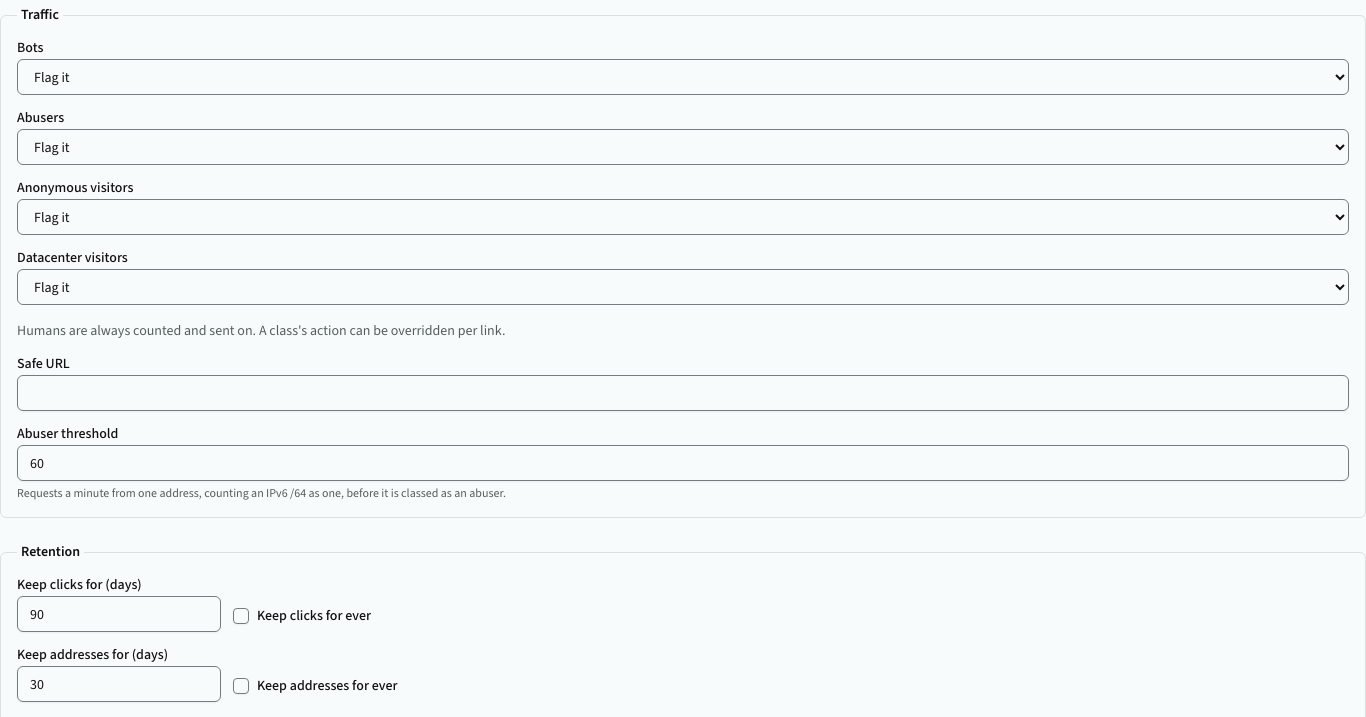
Test case: the settings screen › asks to delete older data, and sends the whole body, when both periods are shorter
Replace the text in the field labelled "Keep clicks for (days)" with "30" at [119, 614], box top-left (17, 596), bottom-right (221, 632)
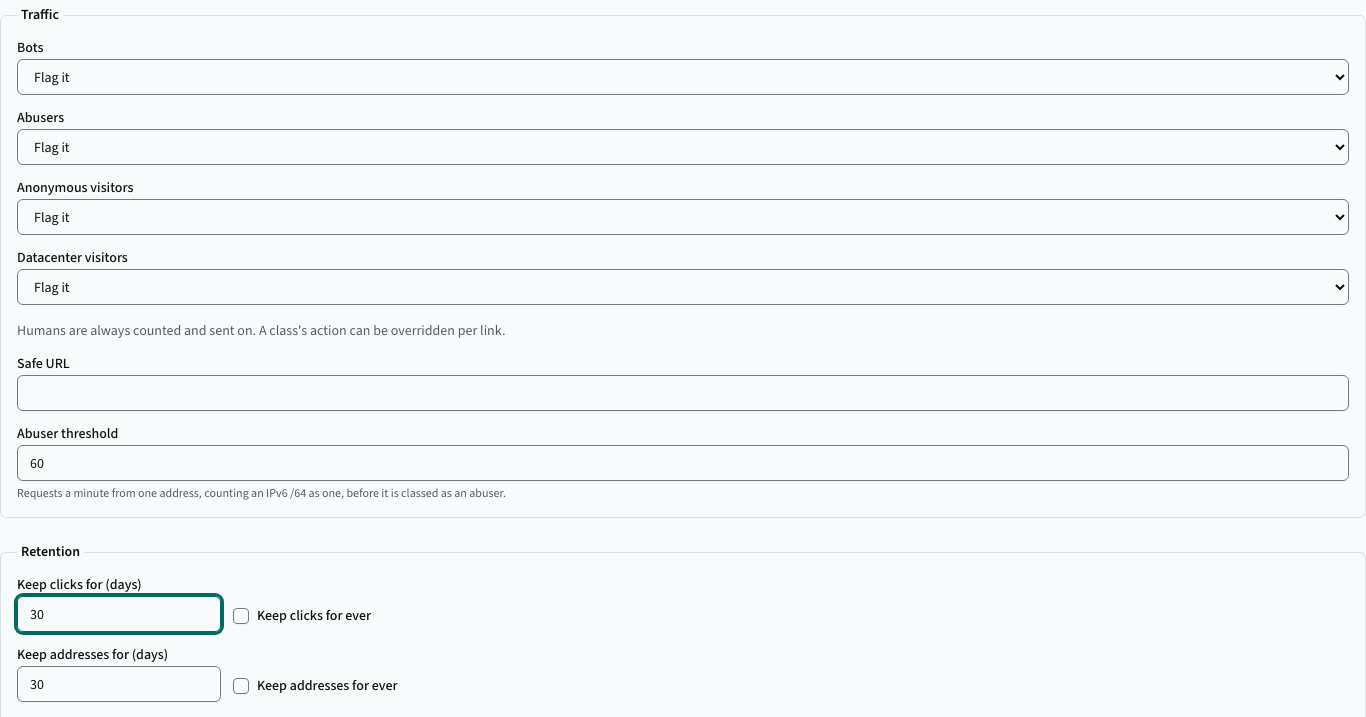
Replace the text in the field labelled "Keep addresses for (days)" with "7" at [119, 684], box top-left (17, 666), bottom-right (221, 702)
(page scrolled)
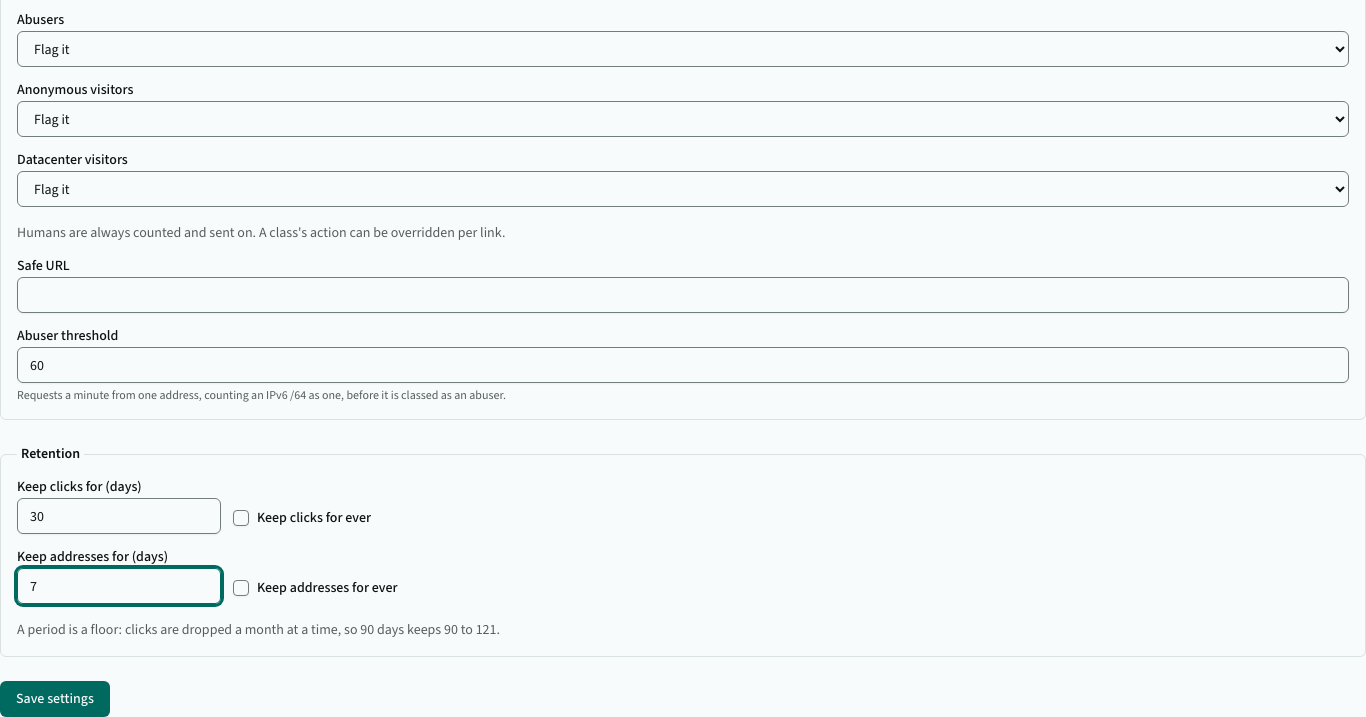
Click the button "Save settings" at [55, 699], box top-left (0, 681), bottom-right (110, 716)
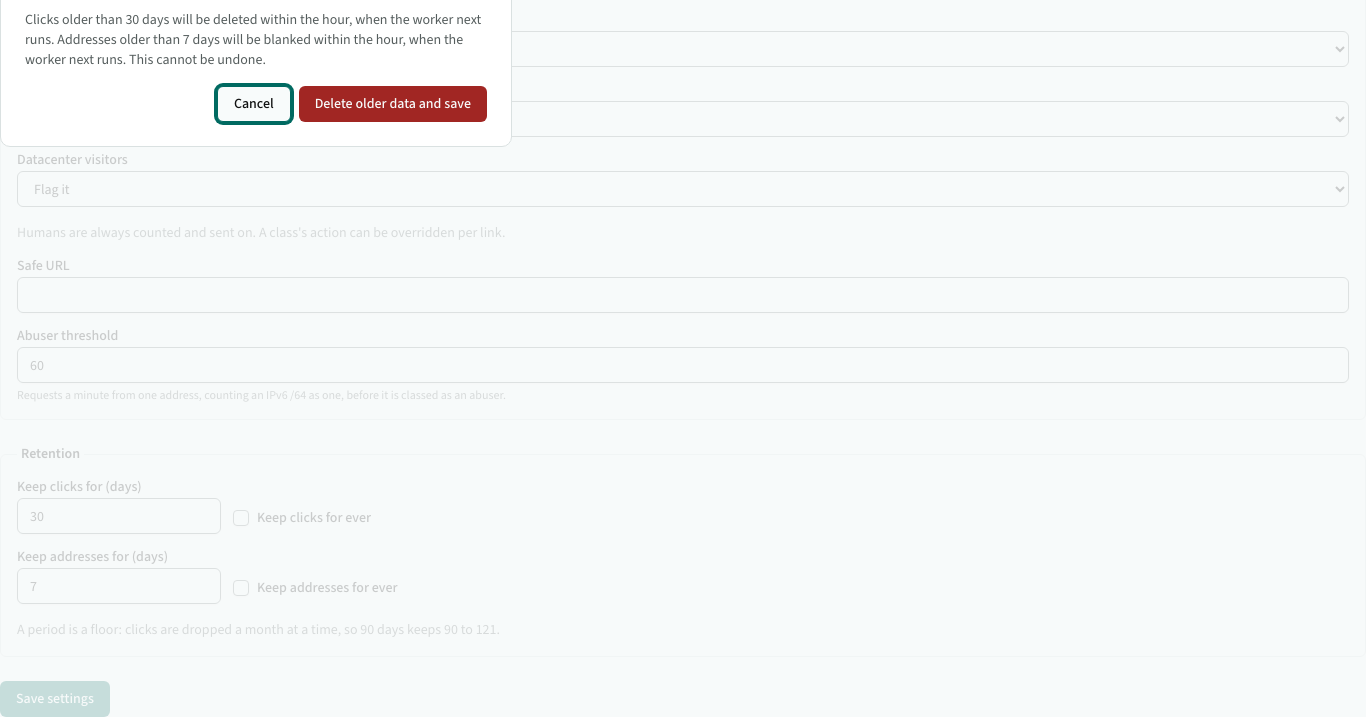
Expected: the dialog shows "Clicks older than 30 days will be deleted within the hour", top-left (25, 10), bottom-right (481, 69)
Expected: the dialog shows "Addresses older than 7 days will be blanked within the hour", top-left (25, 10), bottom-right (481, 69)
Click the button "Delete older data and save" at [393, 104], box top-left (299, 86), bottom-right (487, 122)
(page scrolled)
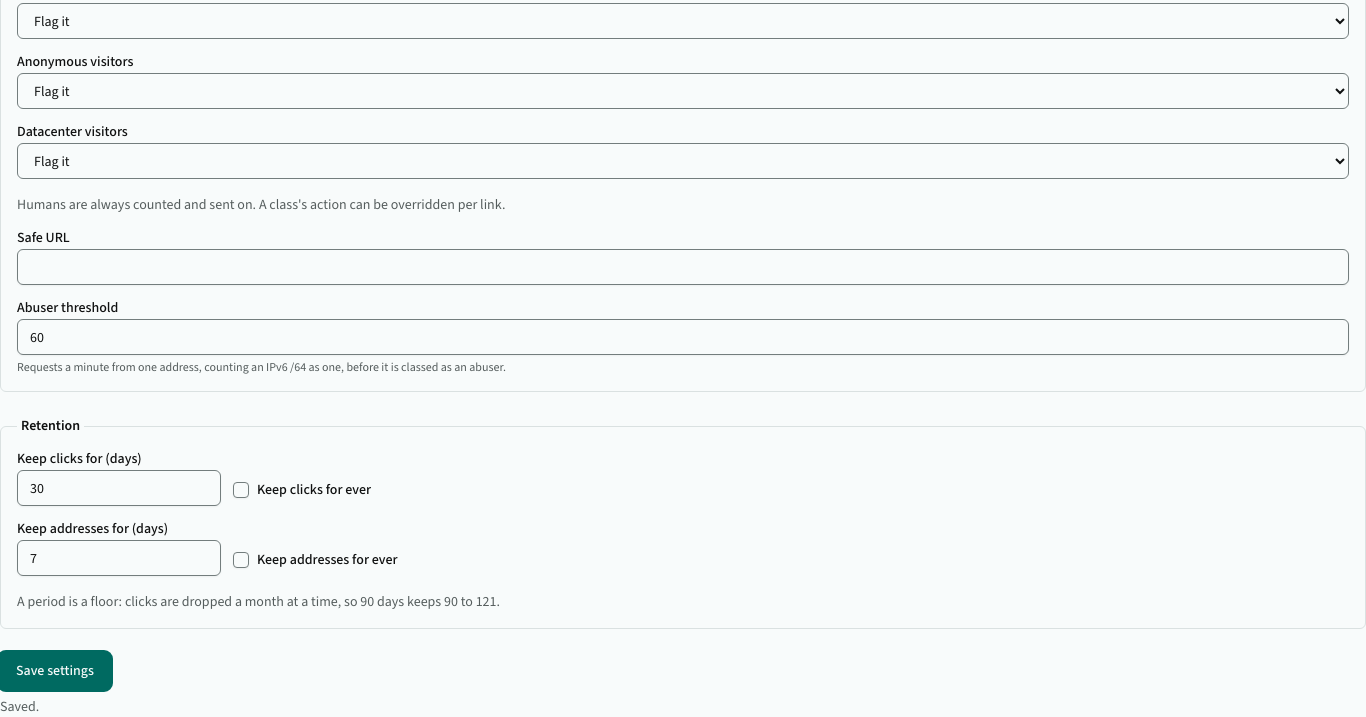
Expected: the text "Saved." is shown, top-left (0, 697), bottom-right (39, 716)
